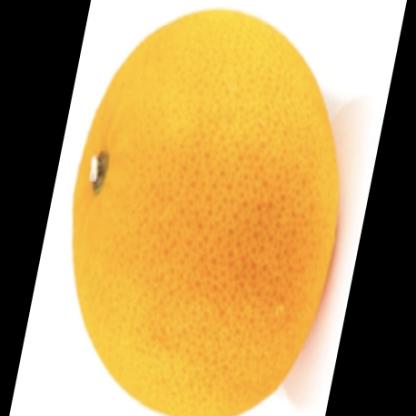fresh: (72, 11, 339, 416)
